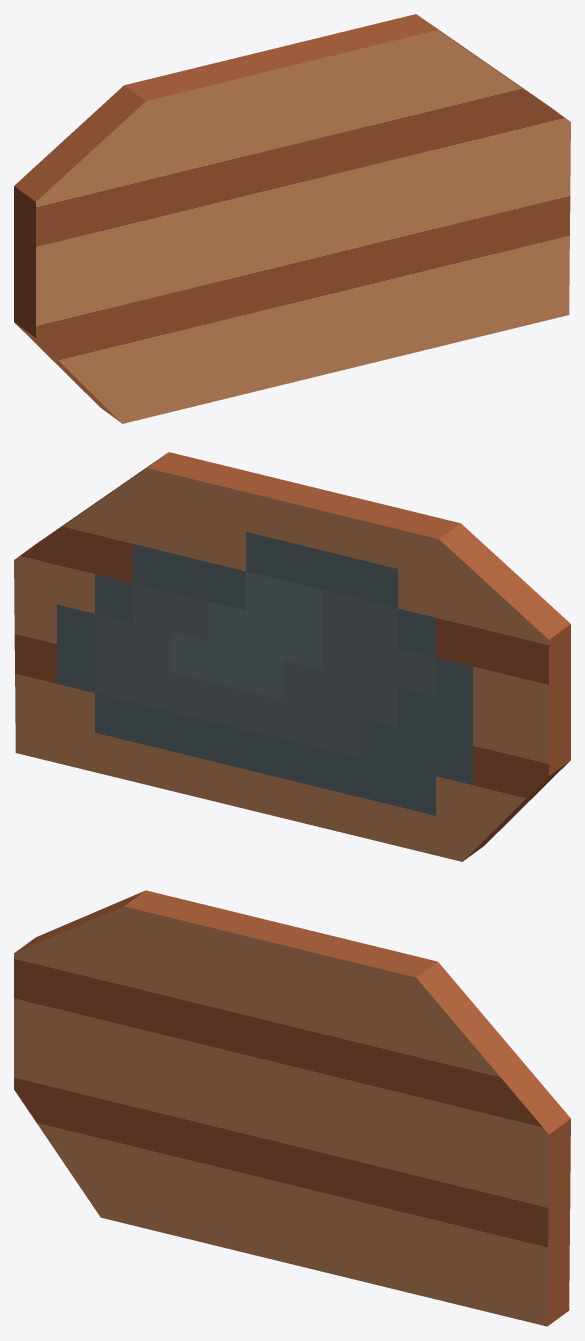
Rendered from enemy.gltf.
3 views of the same model, one above another, from view 1: azimuth 30°, elevation 25°; view 2: azimuth 150°, elevation 25°; view 3: azimuth 330°, elevation 25° (orthographic).
Visible parts, largest first — view 1: cuboid; view 2: cuboid; view 3: cuboid.
Part boxes in pixels (bbox=[...]): cuboid: bbox=[14, 14, 570, 423]; cuboid: bbox=[14, 452, 570, 861]; cuboid: bbox=[14, 890, 570, 1326].
Size of the model in its own units: 0.4417 by 0.25 by 0.0312.
1 material, 1 textured.
